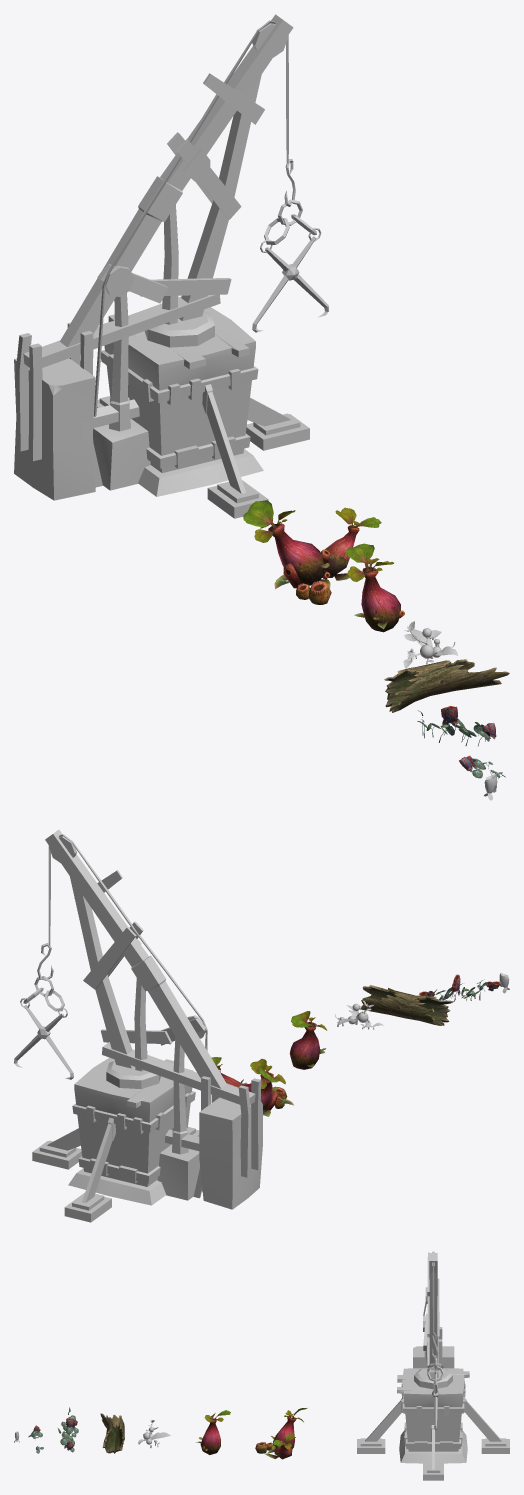
Rendered from d_foliage_03.FBX.
The picture shows the model from 3 angles, top to bottom: view 1: azimuth 30°, elevation 25°; view 2: azimuth 150°, elevation 25°; view 3: azimuth 270°, elevation 25°; orthographic projection. The views are drawn at different scales.
Visible parts, largest first — view 1: diaoche, f_foliage_03, mutou, Object001, f_foliage_06, f_foliage_005; view 2: diaoche, mutou, f_foliage_03, Object001, f_foliage_06, f_foliage_005; view 3: diaoche, f_foliage_03, mutou, Object001, f_foliage_005, f_foliage_06.
Part boxes in pixels (x1=…): diaoche: x1=14, y1=14, x2=329, y2=518; f_foliage_03: x1=243, y1=500, x2=381, y2=604; mutou: x1=384, y1=659, x2=509, y2=712; Object001: x1=344, y1=543, x2=404, y2=632; f_foliage_06: x1=403, y1=621, x2=457, y2=668; f_foliage_005: x1=417, y1=706, x2=496, y2=745; diaoche: x1=14, y1=829, x2=262, y2=1222; mutou: x1=360, y1=985, x2=454, y2=1025; f_foliage_03: x1=211, y1=1057, x2=294, y2=1116; Object001: x1=289, y1=1011, x2=327, y2=1069; f_foliage_06: x1=335, y1=1000, x2=383, y2=1029; f_foliage_005: x1=419, y1=974, x2=484, y2=1001; diaoche: x1=357, y1=1251, x2=509, y2=1480; f_foliage_03: x1=255, y1=1408, x2=307, y2=1459; mutou: x1=100, y1=1413, x2=124, y2=1453; Object001: x1=196, y1=1410, x2=230, y2=1454; f_foliage_005: x1=57, y1=1407, x2=78, y2=1452; f_foliage_06: x1=138, y1=1419, x2=170, y2=1447.
Size of the model in its own units: 768 by 1079 by 2030.
